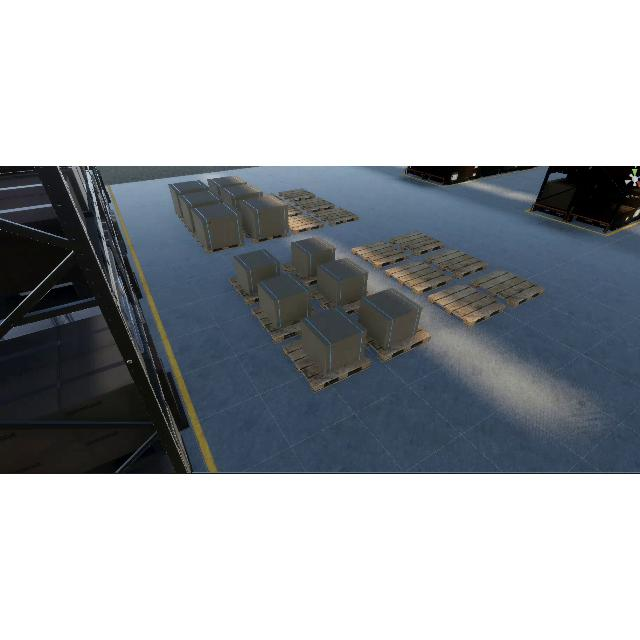wooden_pallet: (282, 341, 371, 394), (427, 283, 506, 328), (470, 269, 546, 308), (365, 325, 432, 364), (385, 259, 452, 296), (425, 248, 491, 280), (251, 306, 301, 345), (229, 278, 259, 307), (244, 228, 287, 244)
